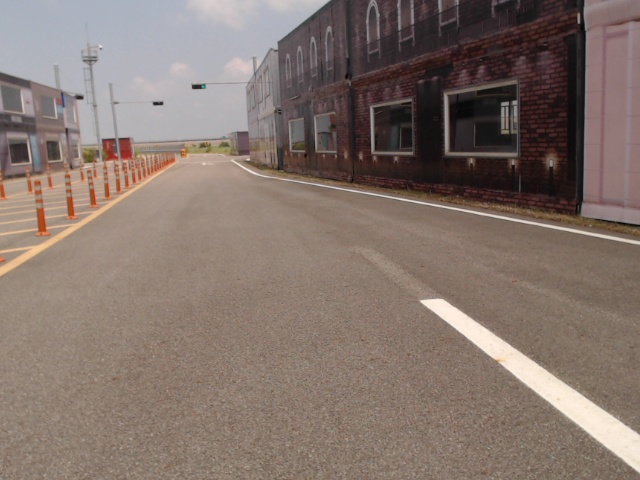green_3: (192, 83, 206, 89)
